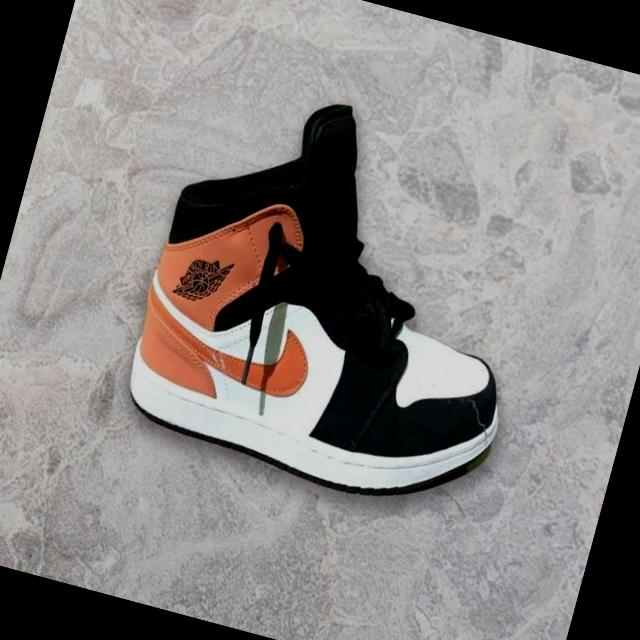nike_fake_jordan: (110, 65, 566, 526)
